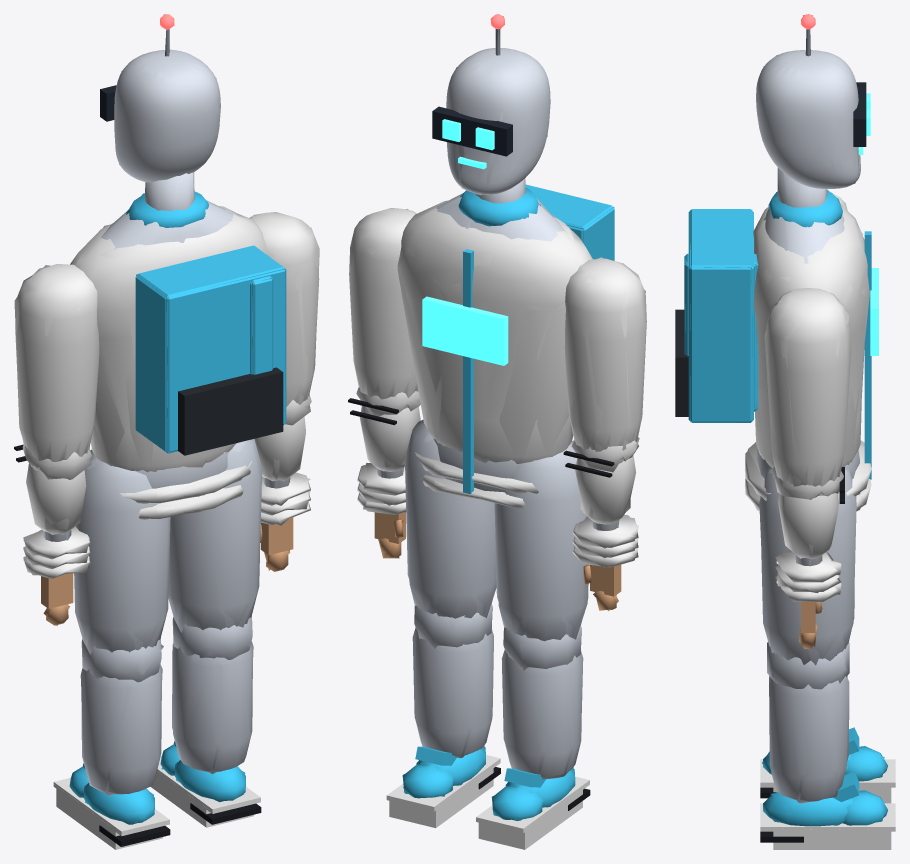
The model's file is char_circuit.glb.
3 views of the same model, side by side, from view 1: azimuth 30°, elevation 25°; view 2: azimuth 150°, elevation 25°; view 3: azimuth 270°, elevation 25° (orthographic). The views are drawn at different scales.
Parts seen in each view (by area): view 1: lod_low, torso_d_3fd0ff, arm_L_sleeve, leg_L_pant, head_skull, torso_jacket, leg_R_pant, shin_L_pant, shin_R_pant, arm_R_sleeve, forearm_L_sleeve, shin_L_d_f4f4f4 (+16 smaller); view 2: lod_low, torso_jacket, leg_L_pant, arm_L_sleeve, leg_R_pant, head_skull, arm_R_sleeve, shin_L_pant, shin_R_pant, torso_d_3fd0ff.001, torso_d_3fd0ff, forearm_L_sleeve (+19 smaller); view 3: lod_low, torso_d_3fd0ff, arm_R_sleeve, head_skull, torso_jacket, leg_R_pant, shin_R_pant, shin_R_d_3fd0ff, forearm_R_sleeve, torso_d_top2, shin_R_d_pants, torso_body (+11 smaller).
Boxes of the visible parts, box(x1,y1,x2,y2) form: lod_low: box(14, 14, 319, 849); torso_d_3fd0ff: box(135, 245, 286, 453); arm_L_sleeve: box(15, 264, 99, 470); leg_L_pant: box(74, 450, 170, 652); head_skull: box(114, 49, 220, 182); torso_jacket: box(70, 206, 266, 471); leg_R_pant: box(168, 439, 261, 630); shin_L_pant: box(81, 665, 161, 794); shin_R_pant: box(172, 644, 252, 771); arm_R_sleeve: box(249, 212, 319, 406); forearm_L_sleeve: box(26, 463, 86, 534); shin_L_d_f4f4f4: box(53, 777, 169, 849); lod_low: box(350, 16, 645, 849); torso_jacket: box(400, 200, 592, 463); leg_L_pant: box(494, 441, 588, 641); arm_L_sleeve: box(564, 258, 646, 461); leg_R_pant: box(405, 420, 496, 618); head_skull: box(446, 48, 550, 194); arm_R_sleeve: box(349, 208, 418, 409); shin_L_pant: box(504, 650, 581, 777); shin_R_pant: box(415, 630, 492, 755); torso_d_3fd0ff.001: box(422, 296, 508, 365); torso_d_3fd0ff: box(525, 184, 614, 260); forearm_L_sleeve: box(575, 454, 635, 524); lod_low: box(675, 15, 891, 849); torso_d_3fd0ff: box(688, 209, 753, 422); arm_R_sleeve: box(766, 288, 850, 496); head_skull: box(756, 50, 860, 189); torso_jacket: box(753, 206, 867, 467); leg_R_pant: box(760, 467, 856, 664); shin_R_pant: box(769, 676, 847, 801); shin_R_d_3fd0ff: box(763, 771, 887, 826); forearm_R_sleeve: box(778, 493, 838, 559); torso_d_top2: box(684, 231, 871, 479); shin_R_d_pants: box(767, 642, 849, 689); torso_body: box(765, 208, 844, 263).
Bounding box in the file's own units: 0.77 × 2.03 × 0.505.
